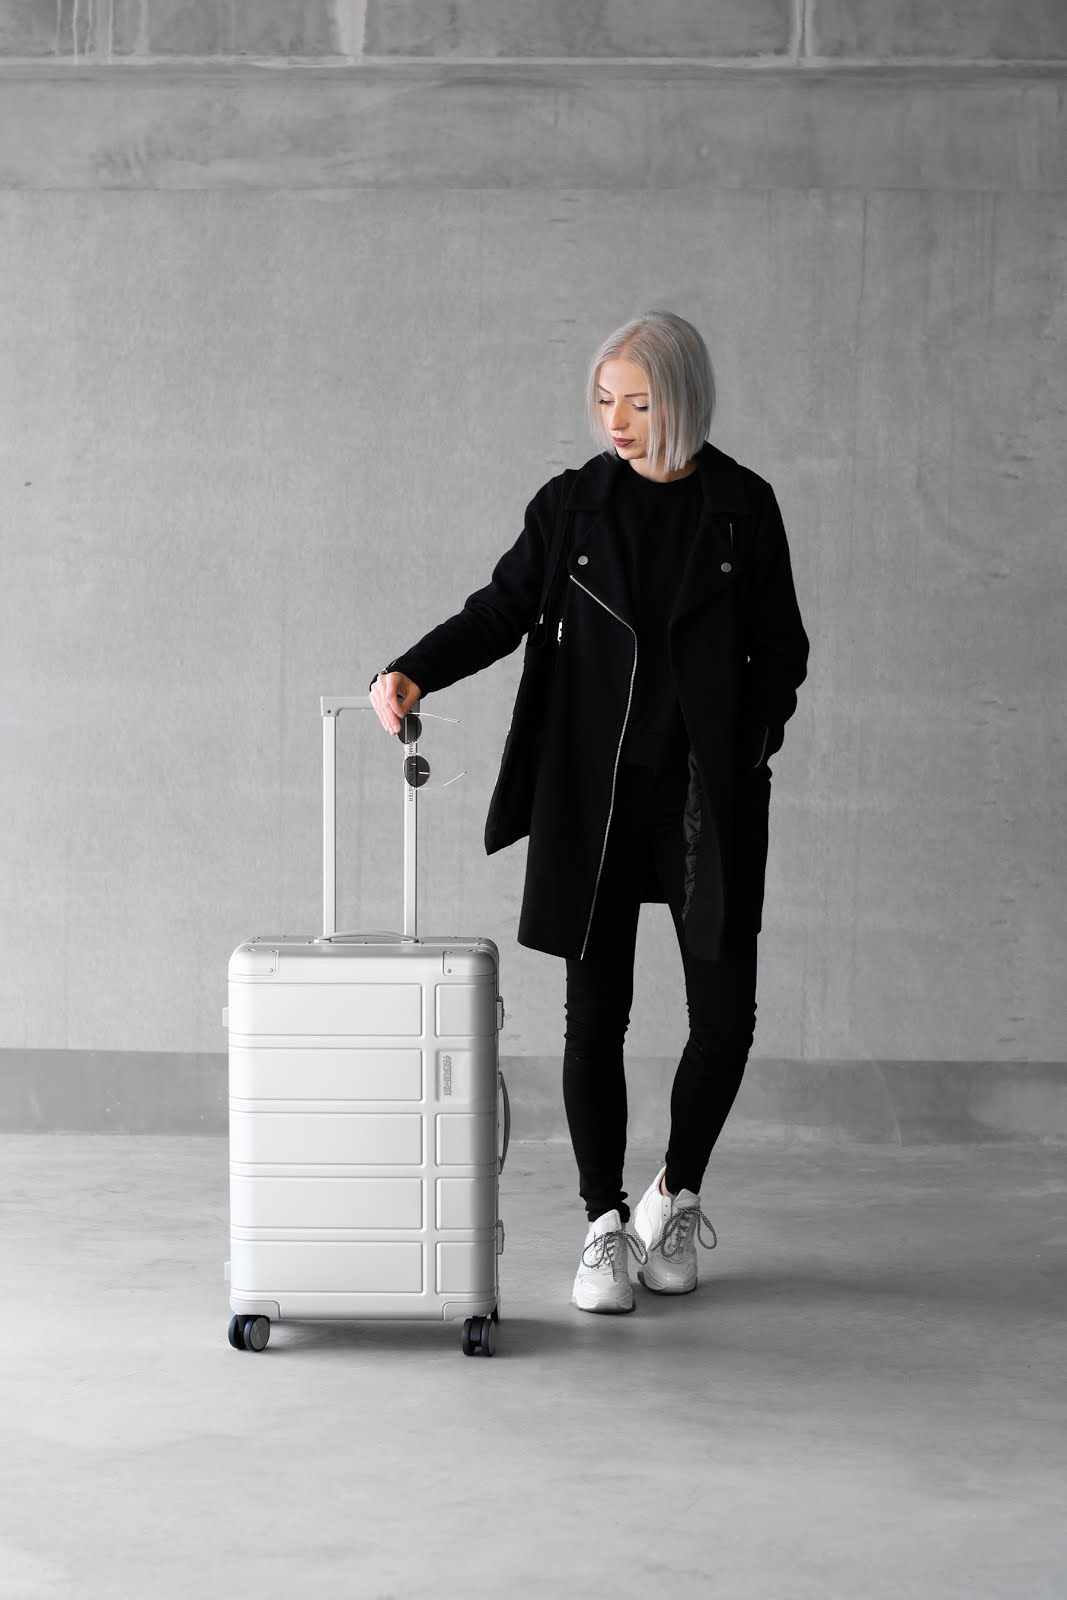luggage: (216, 775, 510, 1365)
